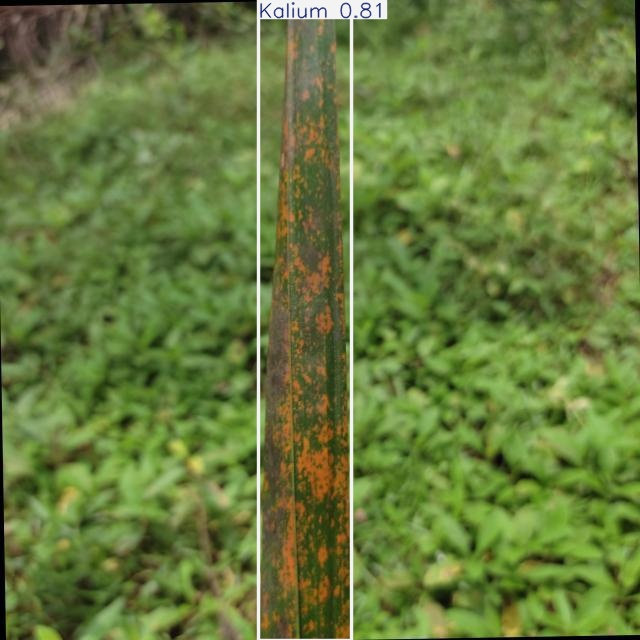Kalium: (258, 1, 352, 640)
